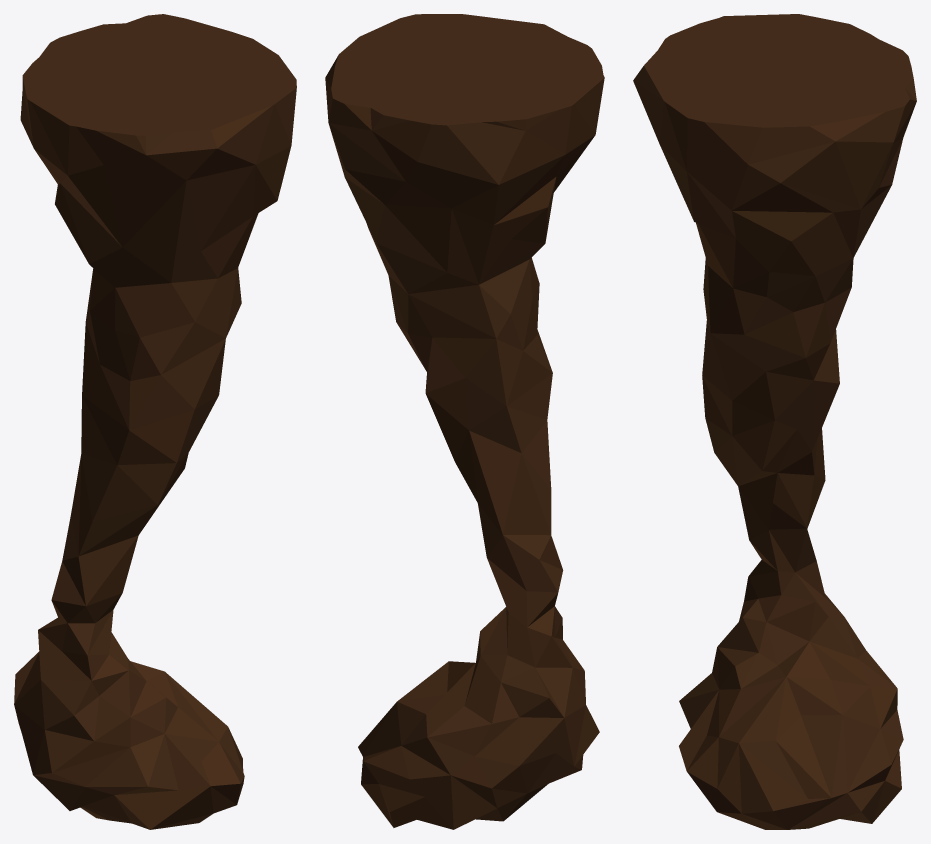
The model's file is Rock Platfromes 2.fbx.
The picture shows the model from 3 angles, left to right: view 1: azimuth 30°, elevation 25°; view 2: azimuth 150°, elevation 25°; view 3: azimuth 270°, elevation 25°; orthographic projection.
Visible parts, largest first — view 1: Cube.003; view 2: Cube.003; view 3: Cube.003.
Boxes of the visible parts, left/top/right/bottom form: Cube.003: left=14, top=14, right=296, bottom=829; Cube.003: left=325, top=14, right=604, bottom=829; Cube.003: left=633, top=14, right=916, bottom=829.
Size of the model in its own units: 385 by 1106 by 385.
